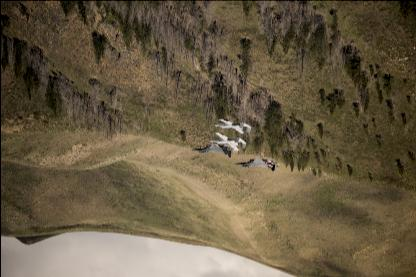A10: (209, 131, 247, 150), (213, 118, 251, 133)
F117: (234, 157, 280, 171), (190, 142, 235, 156)
